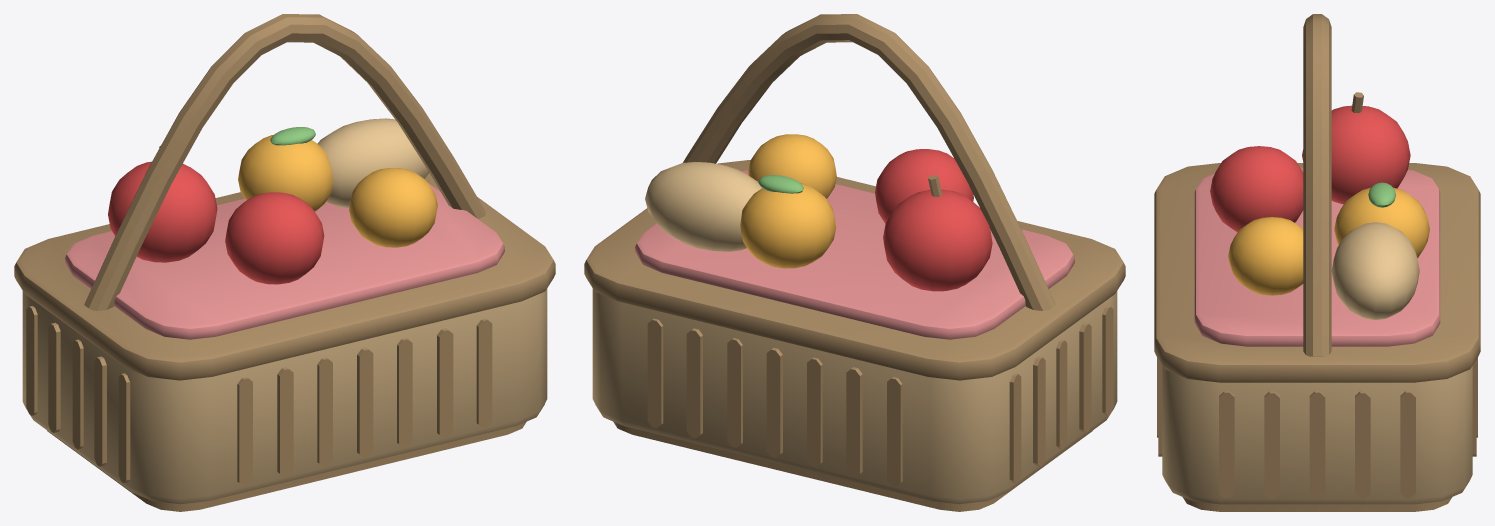
Rendered from SM_ReqSnack.fbx.
3 views of the same model, side by side, from view 1: azimuth 30°, elevation 25°; view 2: azimuth 150°, elevation 25°; view 3: azimuth 270°, elevation 25° (orthographic).
Parts seen in each view (by area): view 1: ReqSnack; view 2: ReqSnack; view 3: ReqSnack.
Part boxes in pixels (bbox=[...]): ReqSnack: bbox=[14, 14, 555, 511]; ReqSnack: bbox=[584, 14, 1125, 511]; ReqSnack: bbox=[1154, 14, 1480, 511].
Bounding box in the file's own units: 0.372 × 0.3405 × 0.252.
